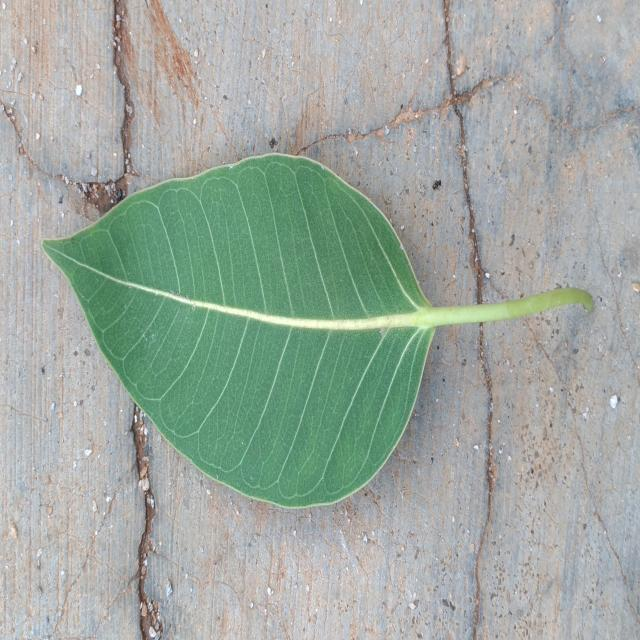camphor: (42, 153, 434, 507)
